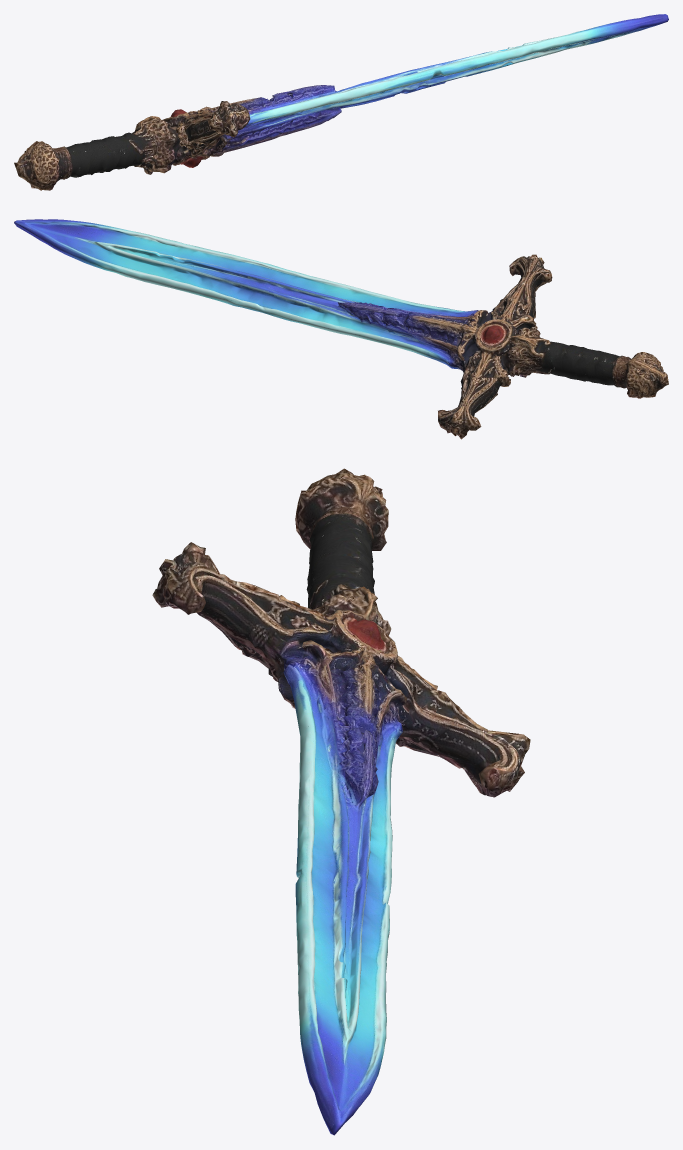
File: yemin.glb
3 renders of one model, top to bottom at view 1: azimuth 30°, elevation 25°; view 2: azimuth 150°, elevation 25°; view 3: azimuth 270°, elevation 25°, orthographic. The views are drawn at different scales.
Parts seen in each view (by area): view 1: tripo_node_c8c4bc5c-3ac3-4352-913c-8d56b6ae4748; view 2: tripo_node_c8c4bc5c-3ac3-4352-913c-8d56b6ae4748; view 3: tripo_node_c8c4bc5c-3ac3-4352-913c-8d56b6ae4748.
Part boxes in pixels (box(x1,y1,x2,y2)): tripo_node_c8c4bc5c-3ac3-4352-913c-8d56b6ae4748: box(14, 14, 668, 190); tripo_node_c8c4bc5c-3ac3-4352-913c-8d56b6ae4748: box(14, 219, 668, 439); tripo_node_c8c4bc5c-3ac3-4352-913c-8d56b6ae4748: box(152, 468, 530, 1135).
Bounding box in the file's own units: 73.79 × 13.82 × 18.59.
1 material, 1 textured.
